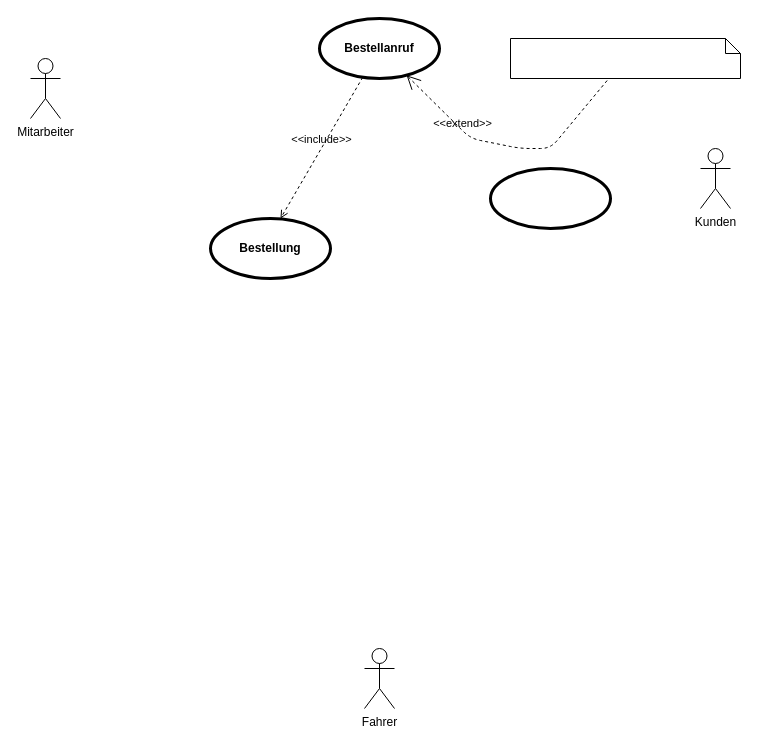
Some shapes in this 758 by 747 pixel diagram are drawn without their labels. The shapes that lost their labels are listed below. From the top down, each one's centre as x and y in pixels, then its label:
At [625,58]: "Condition: {boolean expression} extension point: p1, p2".
At [550,198]: "Kundendaten erfassen".
